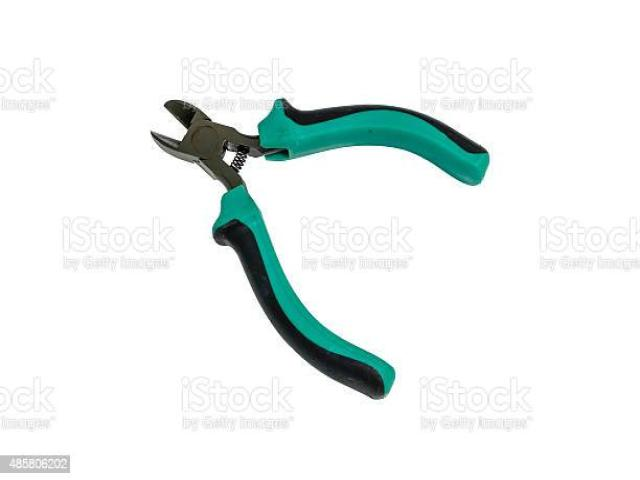Cutting pliers: (151, 98, 489, 397)
